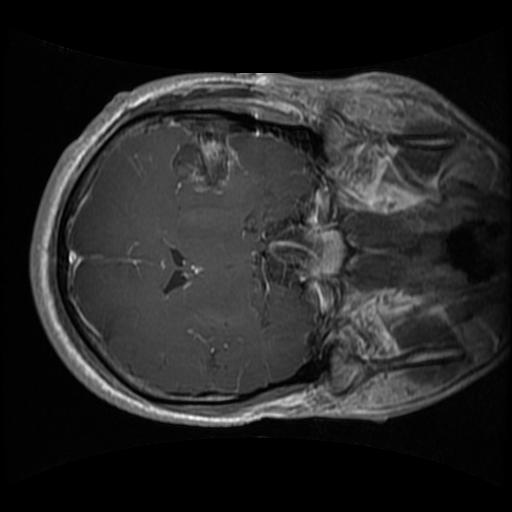glioma: (166, 119, 248, 196)
